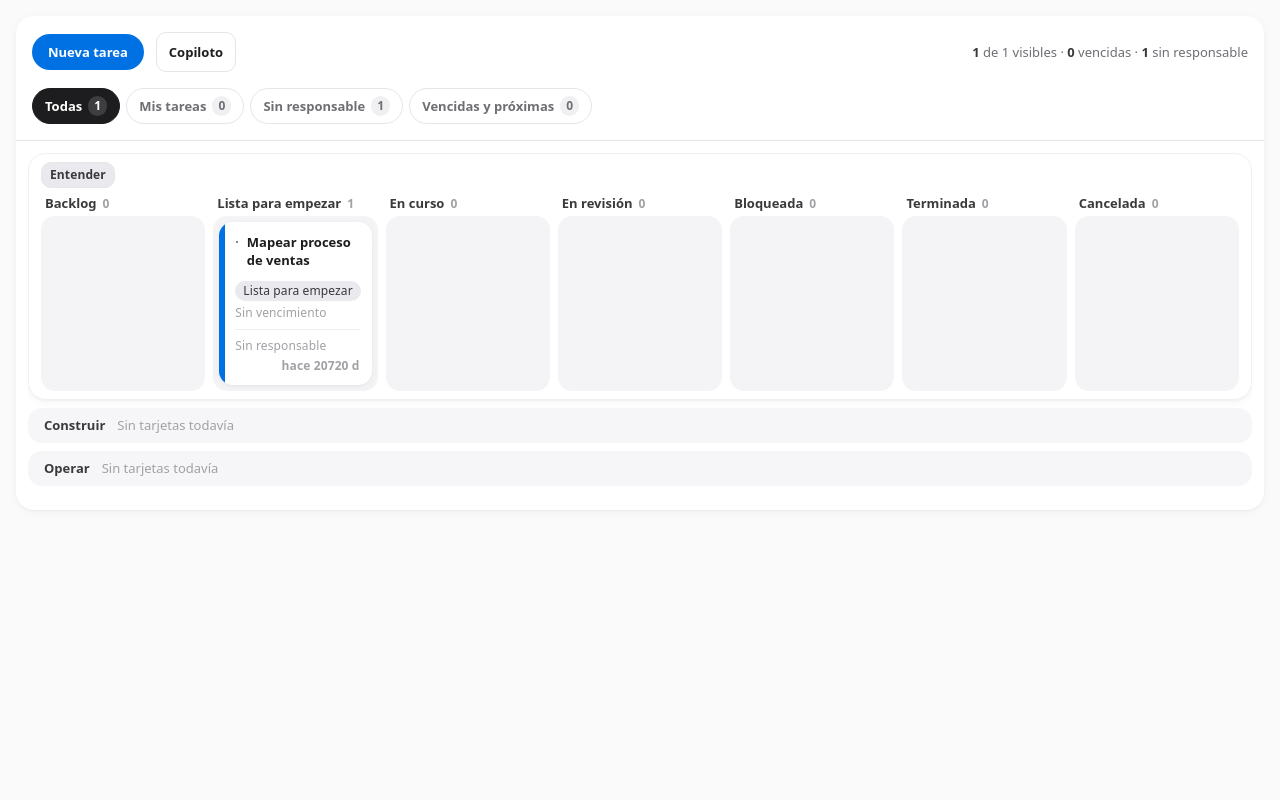
Test: Panel Copiloto en BoardView › reabre el hilo existente cuyo sessionKey coincide con board:<projectId>
Click the button with test id "board-copilot-toggle".
click(196, 52)  # box [156,32,236,72]
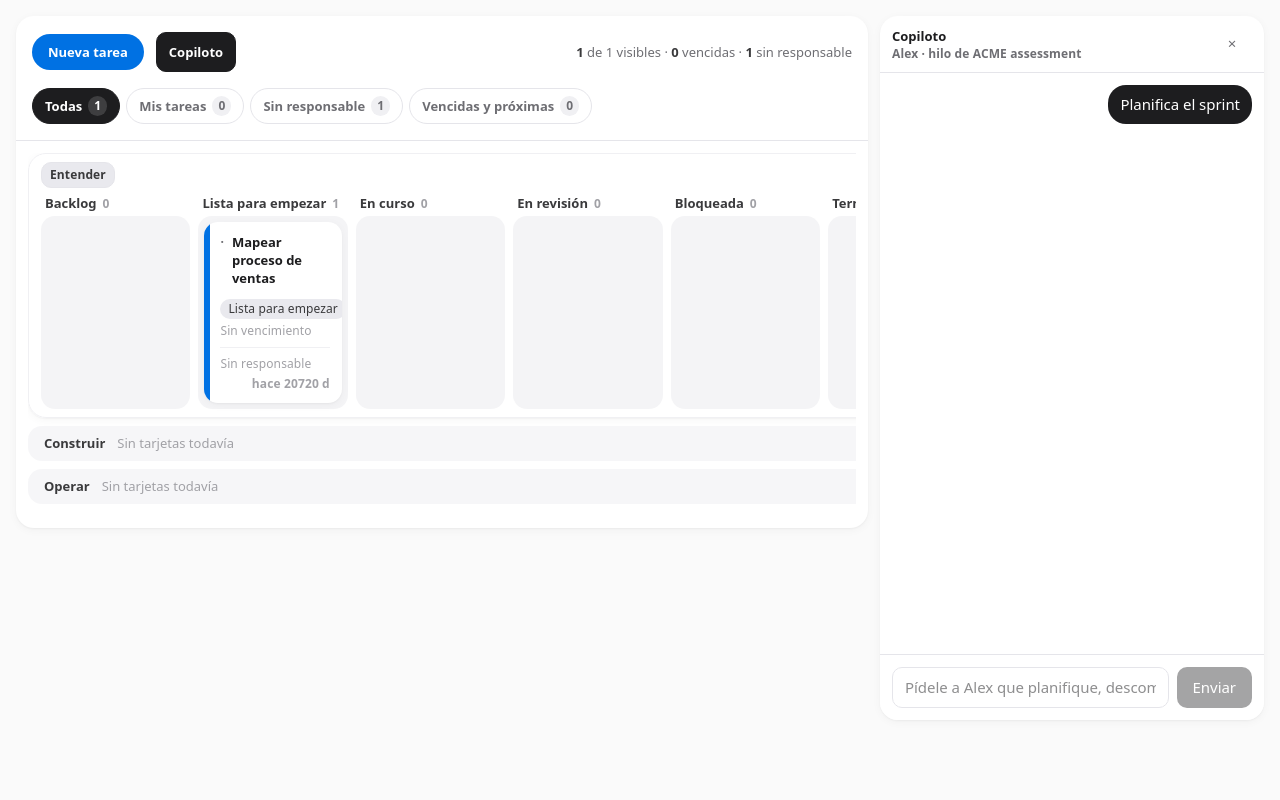
expect the element with test id "board-copilot" is shown: met, box [880,16,1264,720]
expect the field with placeholder "Pídele a Alex que planifique, descomponga o asigne…" is shown: met, box [892,667,1168,708]
expect the text "Planifica el sprint" is shown: met, box [1108,85,1252,124]
